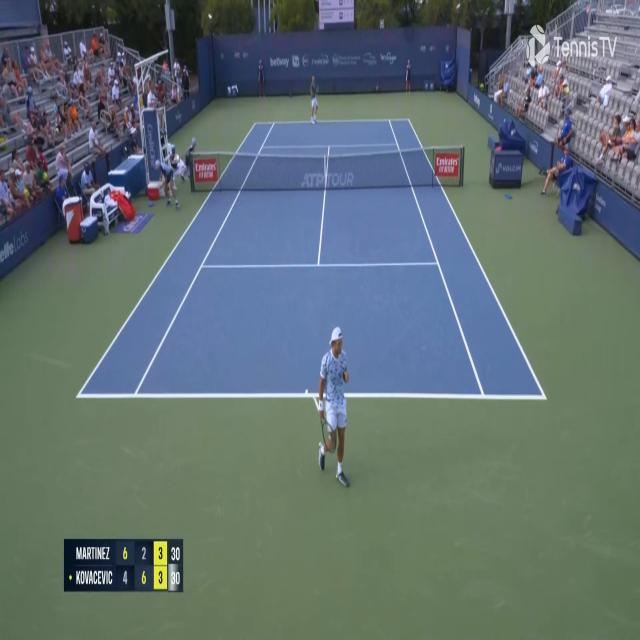tennis-player: (310, 323, 353, 492), (308, 73, 319, 124)
